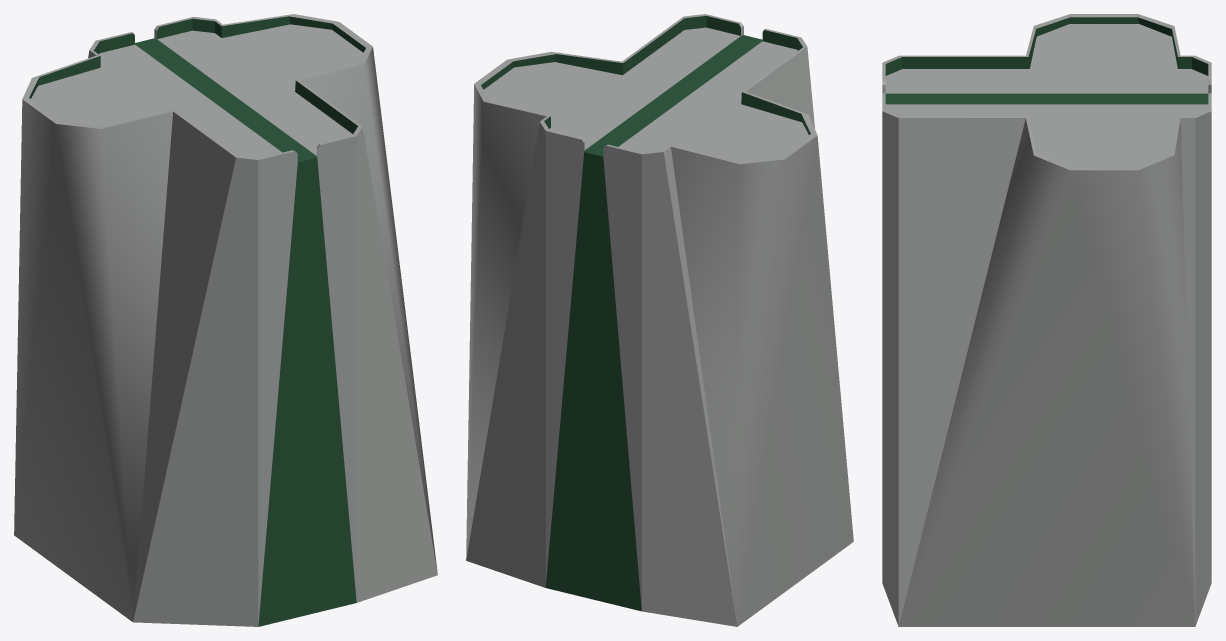
The model's file is Arena_standart_dick.fbx.
3 views of the same model, side by side, from view 1: azimuth 30°, elevation 25°; view 2: azimuth 150°, elevation 25°; view 3: azimuth 270°, elevation 25° (orthographic). The views are drawn at different scales.
Visible parts, largest first — view 1: dick; view 2: dick; view 3: dick.
Part boxes in pixels (x1=…): dick: x1=14, y1=14, x2=437, y2=626; dick: x1=466, y1=14, x2=853, y2=626; dick: x1=882, y1=14, x2=1211, y2=626.
Size of the model in its own units: 2155 by 3032 by 1920.
